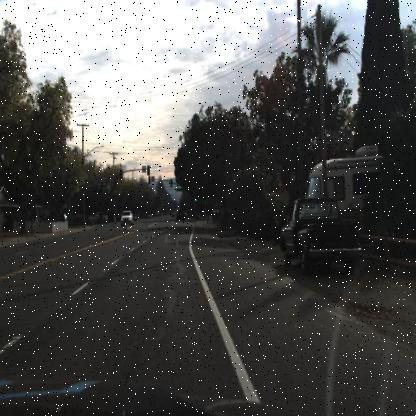car: (278, 195, 364, 276), (119, 209, 132, 228)
truck: (306, 151, 381, 200)
